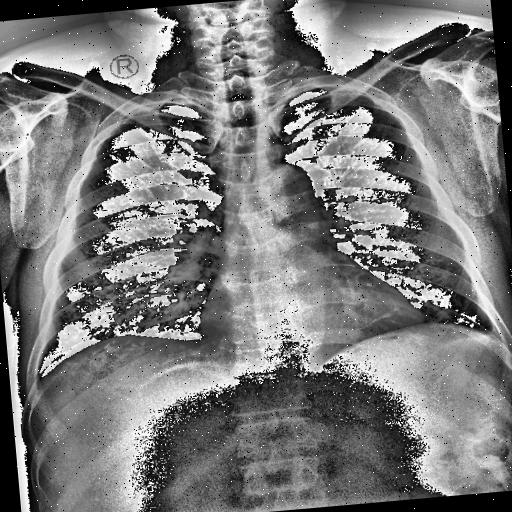0- Aortic enlargement: (254, 159, 316, 212)
10- Pleural effusion: (478, 322, 510, 350), (480, 324, 510, 346)
11- Pleural thickening: (478, 322, 510, 350), (480, 316, 502, 350), (480, 324, 510, 346)
